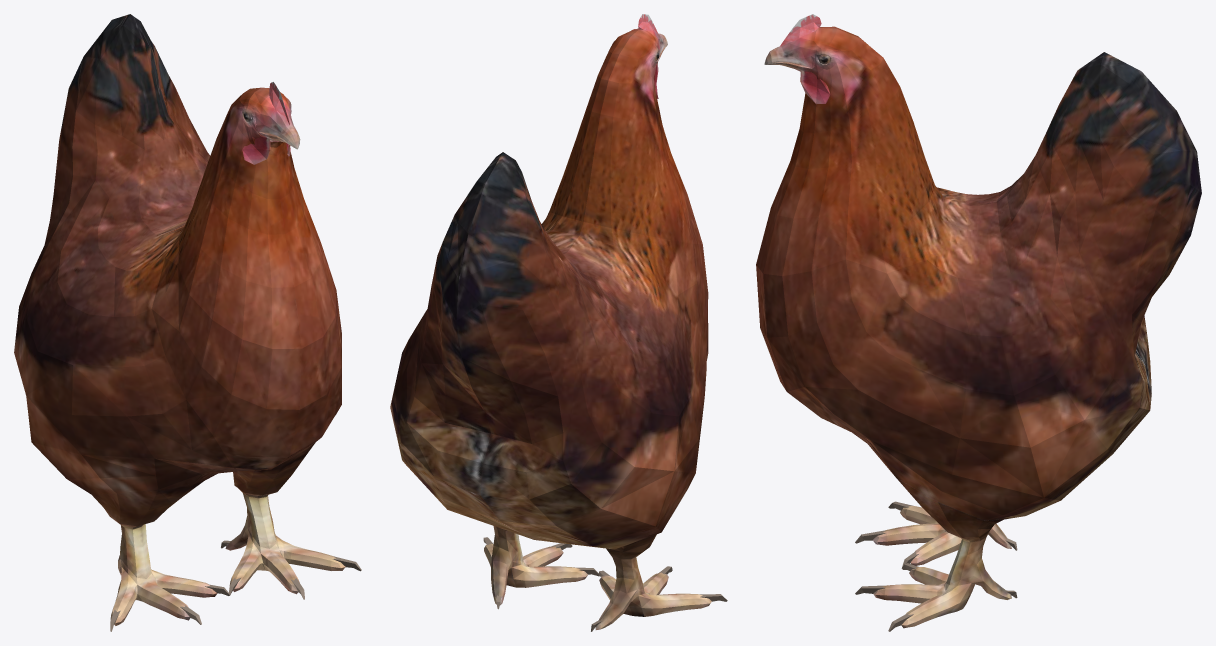
The model's file is sweethome3d-blendswap-cc-0-chicken.glb.
3 renders of one model, left to right at view 1: azimuth 30°, elevation 25°; view 2: azimuth 150°, elevation 25°; view 3: azimuth 270°, elevation 25°, orthographic. The views are drawn at different scales.
Visible parts, largest first — view 1: Chicken_Cylinder.001; view 2: Chicken_Cylinder.001; view 3: Chicken_Cylinder.001.
Boxes of the visible parts, x1,y1,x2,y2 form: Chicken_Cylinder.001: (14, 14, 361, 631); Chicken_Cylinder.001: (390, 14, 727, 631); Chicken_Cylinder.001: (756, 14, 1201, 631).
Size of the model in its own units: 24.23 by 45.55 by 32.82.
3 materials, 3 textured.
